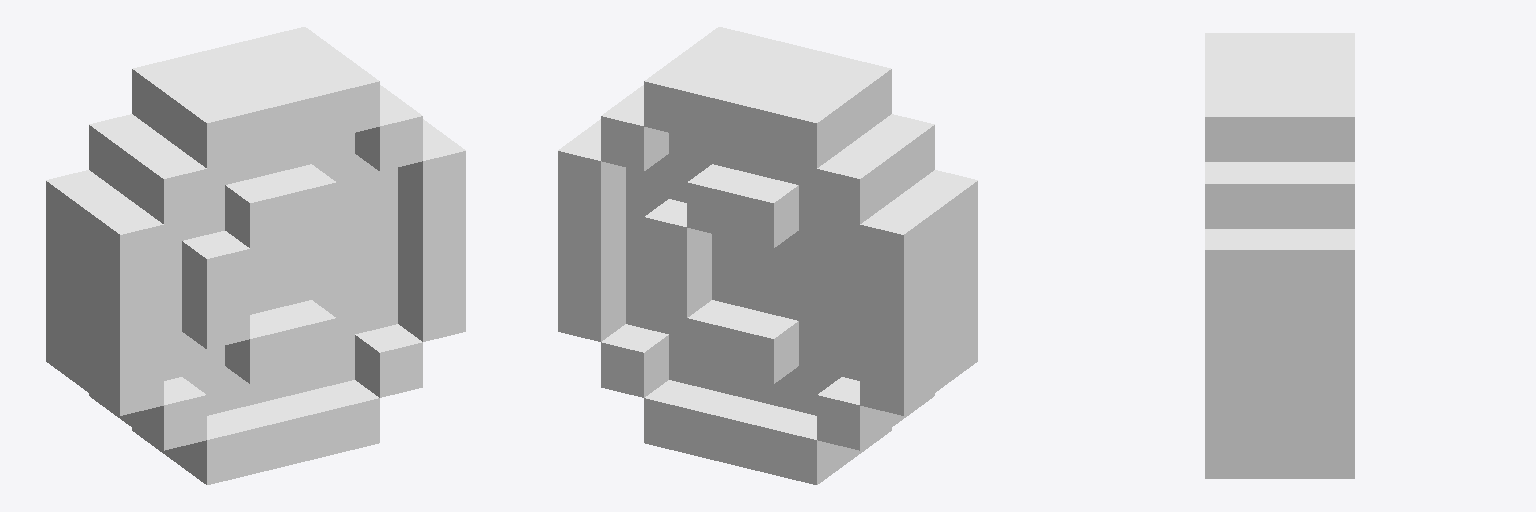
The model's file is Coin.obj.
3 views of the same model, side by side, from view 1: azimuth 30°, elevation 25°; view 2: azimuth 150°, elevation 25°; view 3: azimuth 270°, elevation 25° (orthographic).
Visible parts, largest first — view 1: Coin; view 2: Coin; view 3: Coin.
Part boxes in pixels (left/top/right/bottom): Coin: left=46, top=27, right=465, bottom=484; Coin: left=558, top=27, right=977, bottom=484; Coin: left=1205, top=33, right=1354, bottom=478.
Bounding box in the file's own units: 8 × 8 × 3.